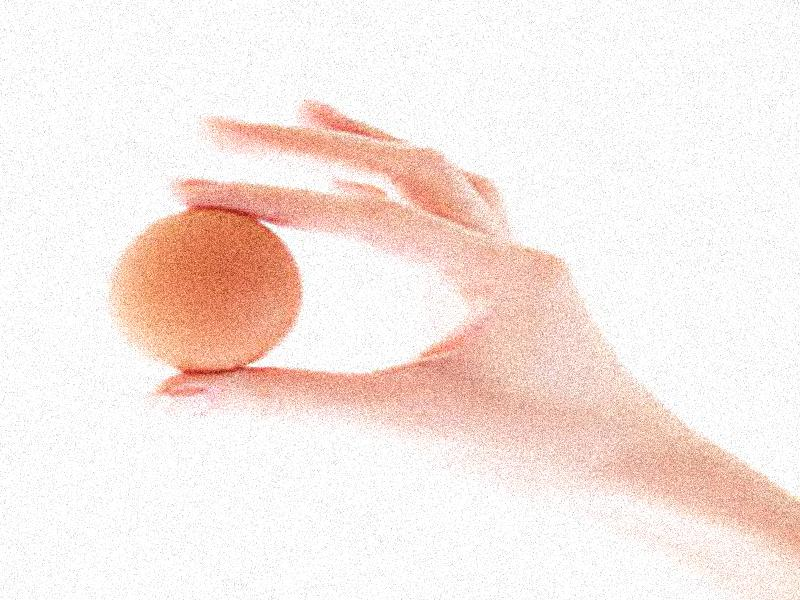Eggs: (110, 206, 298, 374)
